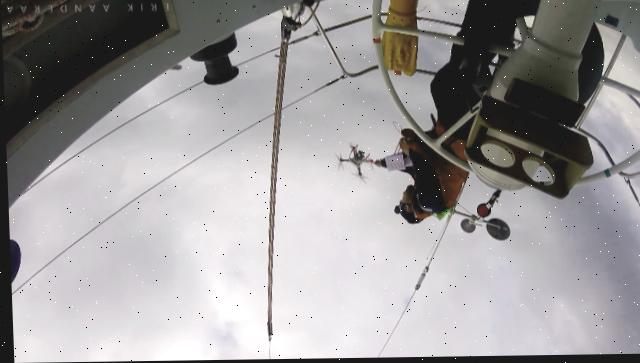drone: (334, 141, 380, 187)
